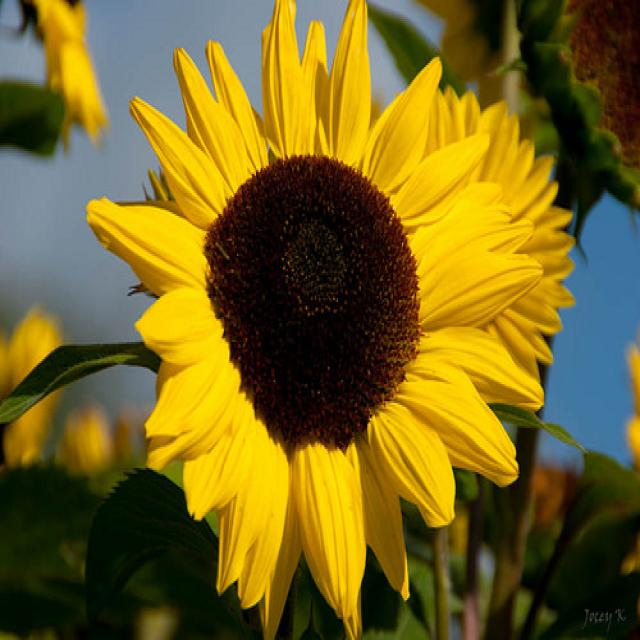sunflower: (84, 2, 579, 638)
